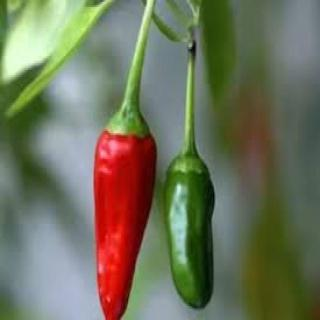Cabai Hijau: (165, 150, 217, 311)
Cabai Merah: (90, 129, 158, 318)
